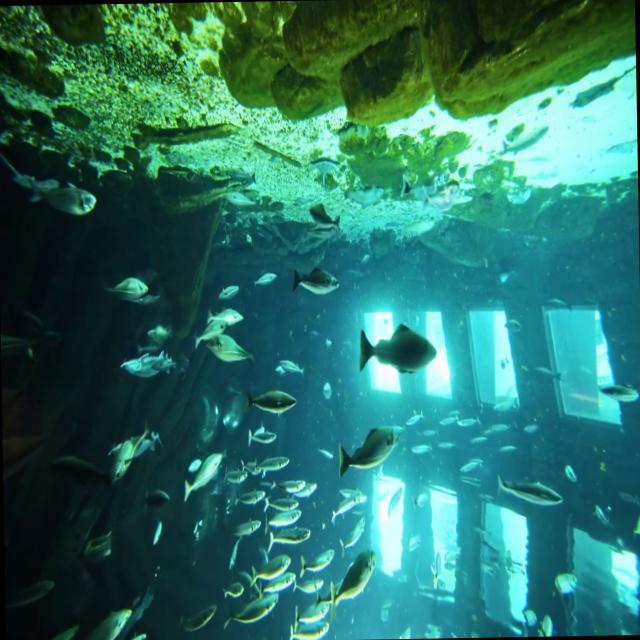fish: (358, 320, 437, 378), (327, 552, 377, 617), (338, 429, 401, 480), (106, 431, 166, 481), (220, 590, 280, 632), (496, 475, 562, 509), (195, 305, 242, 351), (182, 448, 222, 502), (120, 348, 176, 378), (290, 262, 339, 296), (248, 552, 290, 588), (292, 594, 332, 630), (245, 387, 294, 415), (104, 274, 152, 302), (266, 527, 311, 556), (274, 356, 302, 374)
